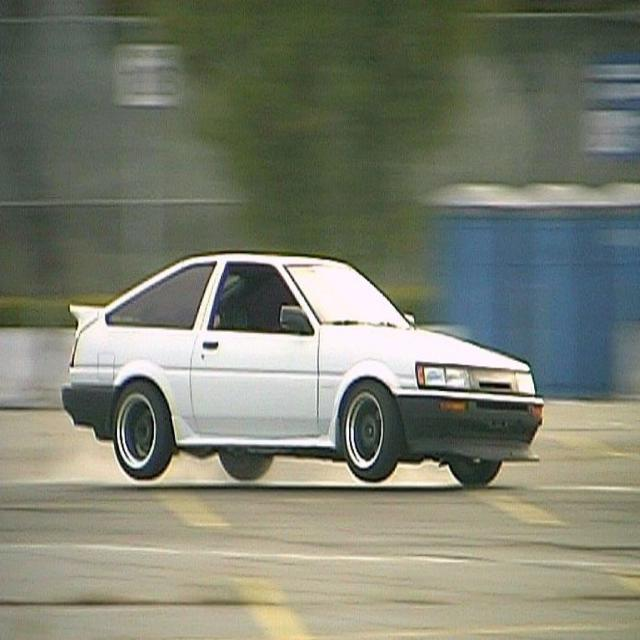car: (59, 249, 559, 492)
